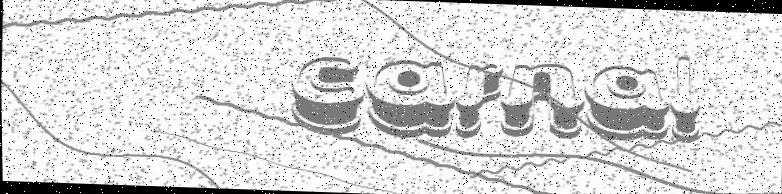a: (365, 55, 455, 140), (583, 61, 672, 143)
c: (287, 52, 366, 137)
l: (666, 54, 703, 145)
r: (497, 56, 586, 144), (452, 60, 504, 139)
